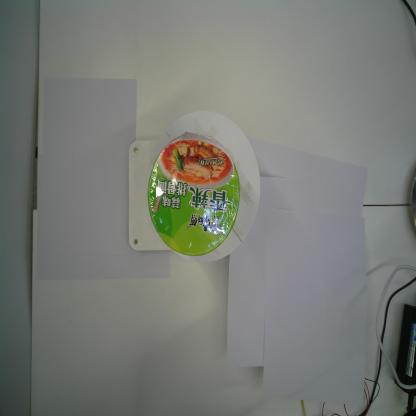Instant Noodles: (146, 130, 241, 258)
